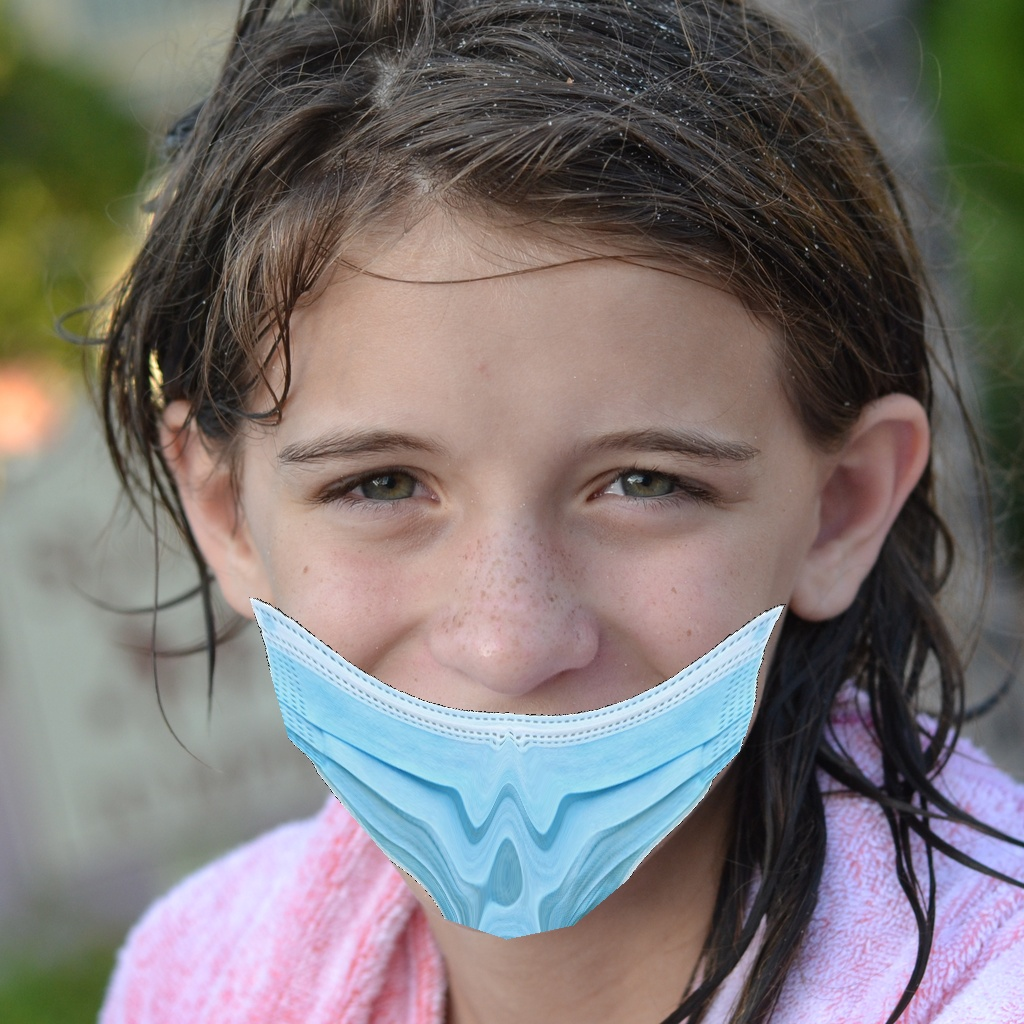mask_weared_incorrect: (175, 348, 853, 964)
